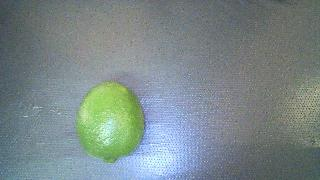EXPORTACION: (76, 81, 144, 163)
